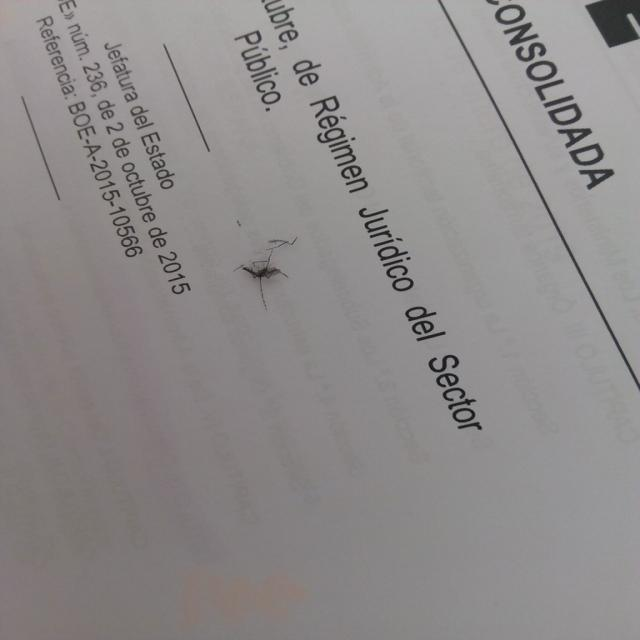albopictus: (231, 234, 299, 311)
